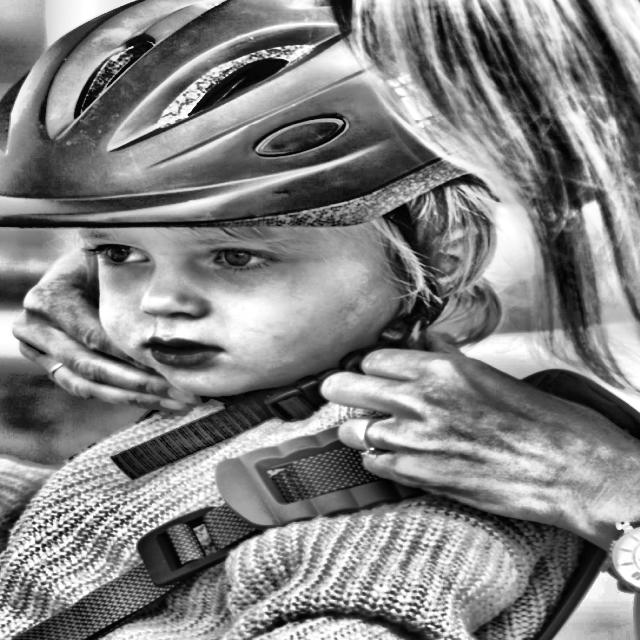Helmet: (0, 0, 493, 434)
